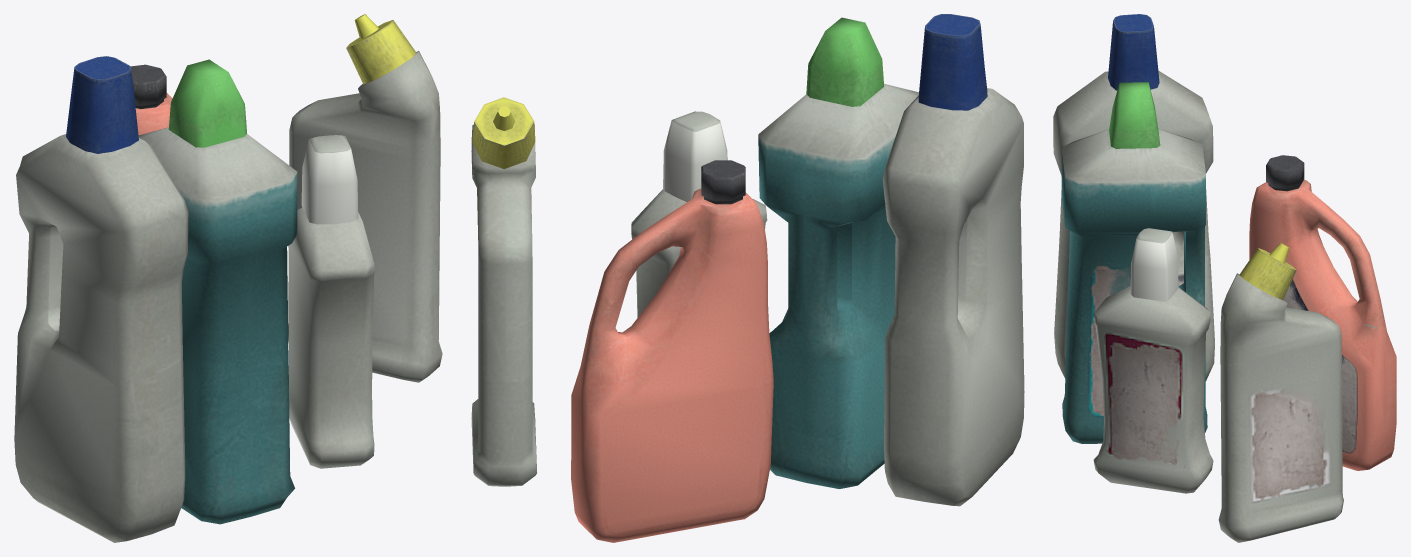
Rendered from 027_washingmaterial02a.fbx.
The picture shows the model from 3 angles, left to right: view 1: azimuth 30°, elevation 25°; view 2: azimuth 150°, elevation 25°; view 3: azimuth 270°, elevation 25°; orthographic projection. The views are drawn at different scales.
Parts seen in each view (by area): view 1: LOD_1_Group_0_Sub_1__sm36_018_WashingMaterial01A_A_Mat; view 2: LOD_1_Group_0_Sub_1__sm36_018_WashingMaterial01A_A_Mat; view 3: LOD_1_Group_0_Sub_1__sm36_018_WashingMaterial01A_A_Mat.
Part boxes in pixels (x1,y1,x2,y2): LOD_1_Group_0_Sub_1__sm36_018_WashingMaterial01A_A_Mat: [14, 14, 442, 542]; LOD_1_Group_0_Sub_1__sm36_018_WashingMaterial01A_A_Mat: [471, 14, 1024, 542]; LOD_1_Group_0_Sub_1__sm36_018_WashingMaterial01A_A_Mat: [1053, 14, 1396, 542].
Size of the model in its own units: 0.477 by 0.4491 by 0.3847.
